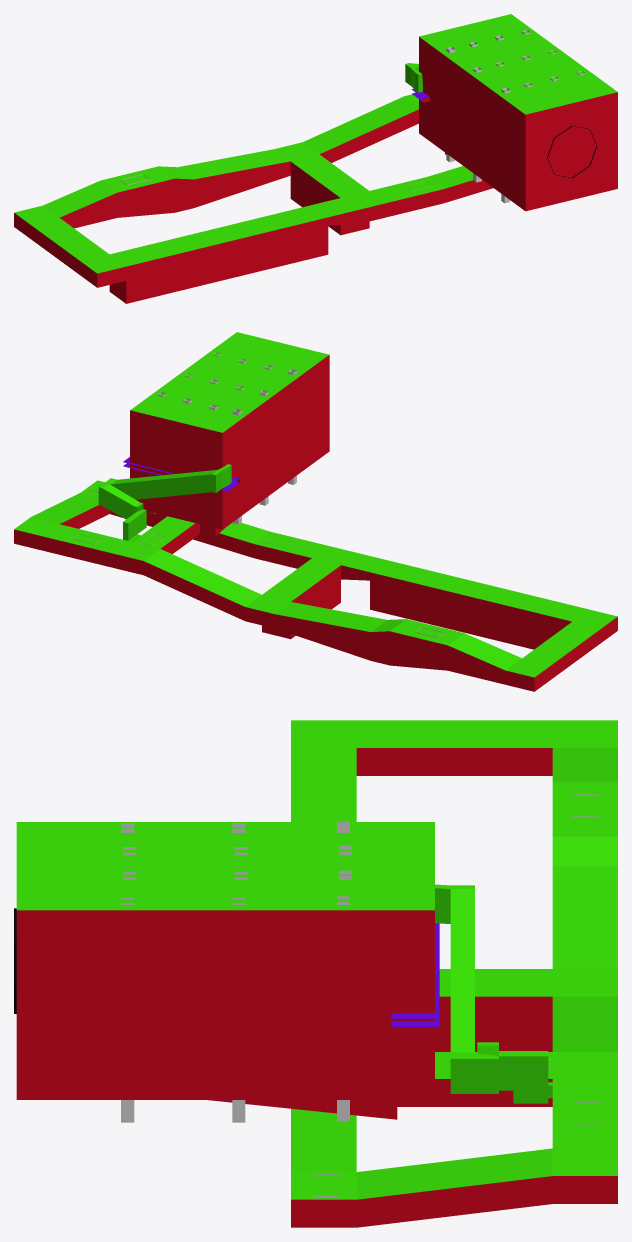
Rendered from TownCInterior1.fbx.
3 renders of one model, top to bottom at view 1: azimuth 30°, elevation 25°; view 2: azimuth 150°, elevation 25°; view 3: azimuth 270°, elevation 25°, orthographic. The views are drawn at different scales.
Visible parts, largest first — view 1: Cube; view 2: Cube; view 3: Cube.
Boxes of the visible parts, <box> form: Cube: <box>14,14,617,303</box>; Cube: <box>14,332,617,691</box>; Cube: <box>14,720,617,1227</box>.
Bounding box in the file's own units: 18000 × 5400 × 9239.
